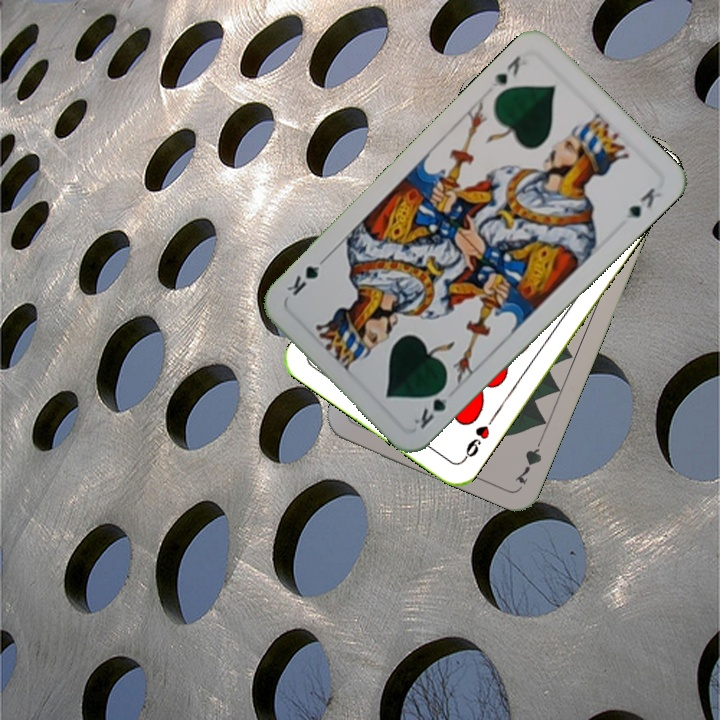G7: (510, 431, 547, 487)
GK: (410, 380, 450, 432), (488, 51, 524, 90)
H9: (458, 413, 498, 464)
